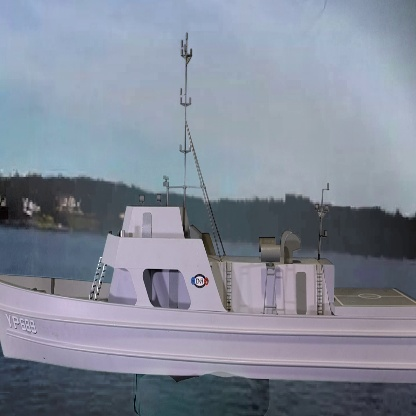YP689: (0, 28, 416, 388)
